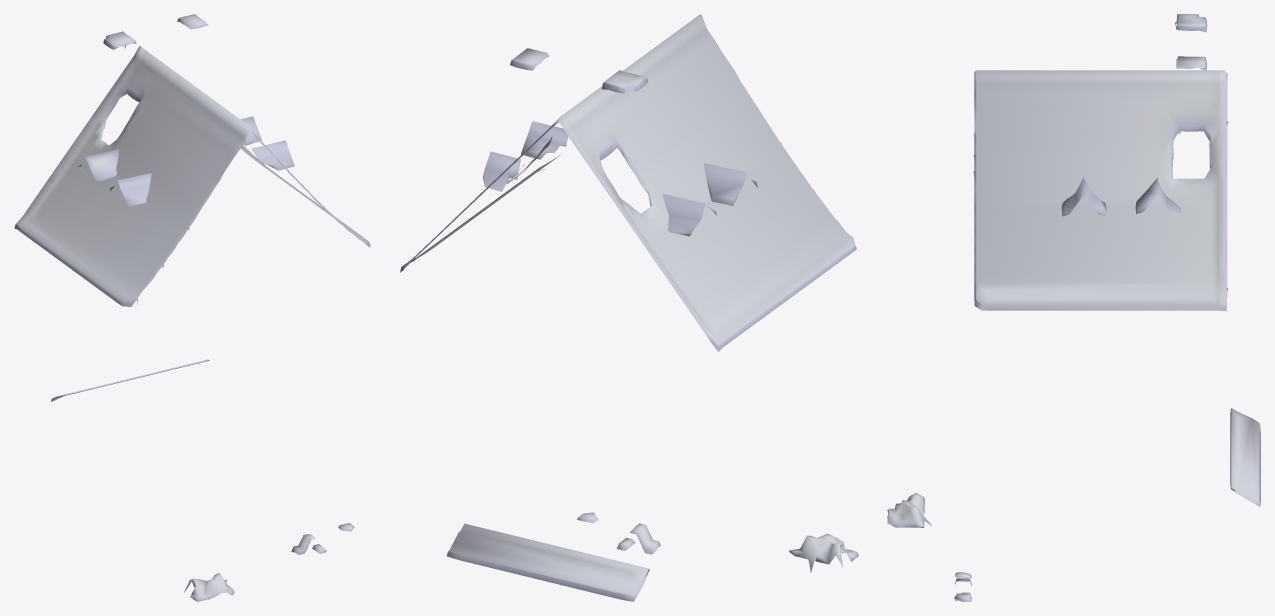
Rendered from category.other.l.snow.glb.
3 views of the same model, side by side, from view 1: azimuth 30°, elevation 25°; view 2: azimuth 150°, elevation 25°; view 3: azimuth 270°, elevation 25° (orthographic). The views are drawn at different scales.
Visible parts, largest first — view 1: snow, tier.2; view 2: snow, tier.2; view 3: snow, tier.2.
Part boxes in pixels (<box>): snow: <box>14,14,370,601</box>; tier.2: <box>77,116,294,206</box>; snow: <box>400,14,858,601</box>; tier.2: <box>483,121,757,236</box>; snow: <box>887,14,1260,601</box>; tier.2: <box>1061,131,1180,216</box>.
Size of the model in its own units: 8.27 by 14.68 by 9.47.
